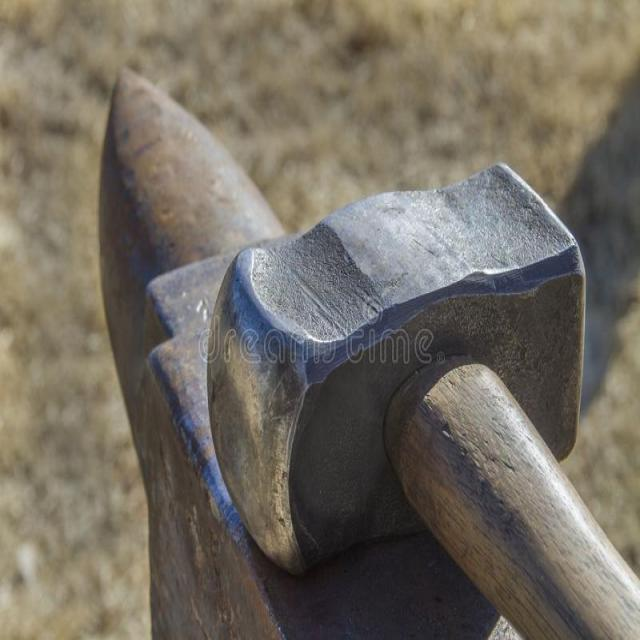hammer: (200, 155, 640, 640)
